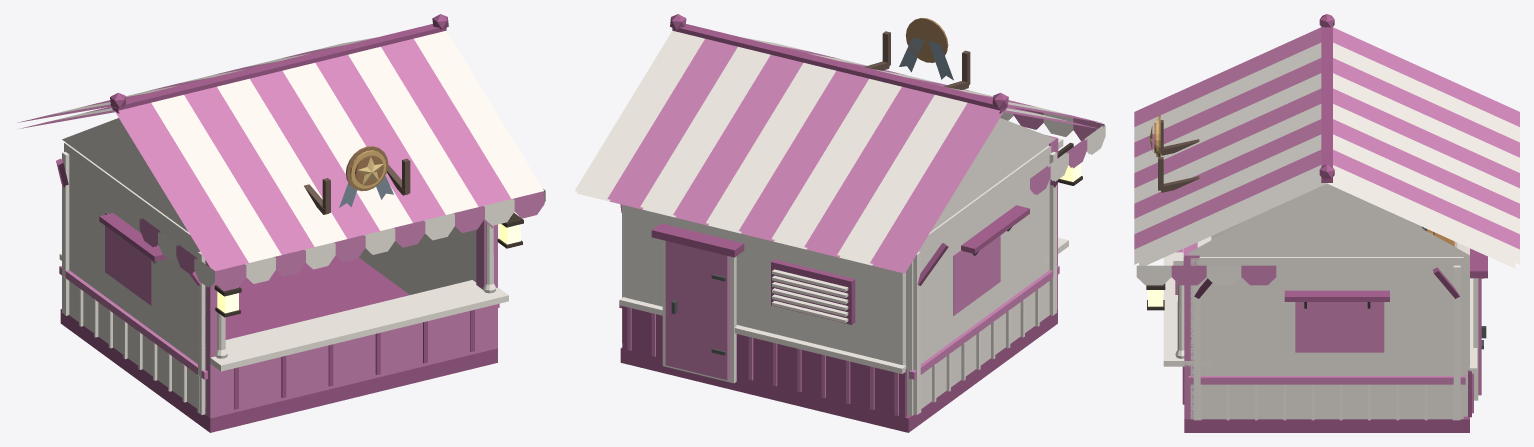
The model's file is kiosk-prizes.glb.
3 renders of one model, left to right at view 1: azimuth 30°, elevation 25°; view 2: azimuth 150°, elevation 25°; view 3: azimuth 270°, elevation 25°, orthographic. The views are drawn at different scales.
Visible parts, largest first — view 1: kiosk-prizes, Midway_counter_service_walls_and_joinery; view 2: kiosk-prizes, Midway_counter_service_walls_and_joinery; view 3: kiosk-prizes, Midway_counter_service_walls_and_joinery.
Boxes of the visible parts, x1=… form: kiosk-prizes: x1=17, y1=14, x2=545, y2=432; Midway_counter_service_walls_and_joinery: x1=56, y1=146, x2=499, y2=414; kiosk-prizes: x1=574, y1=14, x2=1105, y2=432; Midway_counter_service_walls_and_joinery: x1=619, y1=18, x2=1063, y2=417; kiosk-prizes: x1=1134, y1=14, x2=1519, y2=432; Midway_counter_service_walls_and_joinery: x1=1150, y1=115, x2=1487, y2=420.
Bounding box in the file's own units: 5.85 × 4.81 × 6.08.
